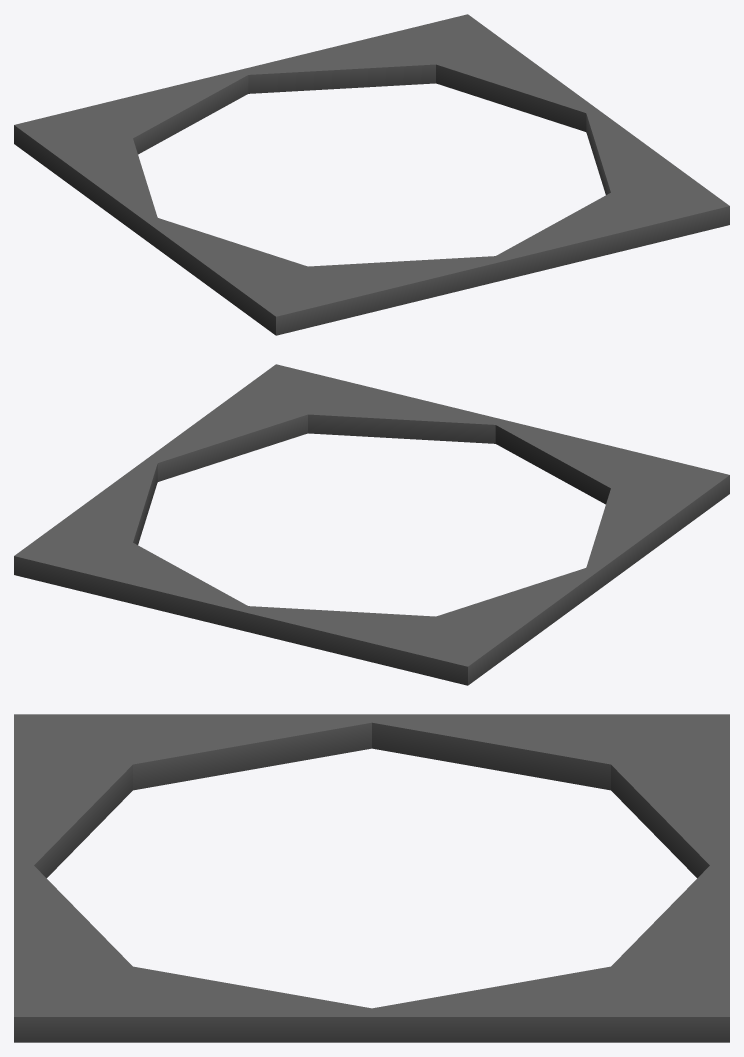
File: floorGoal.gltf
3 renders of one model, top to bottom at view 1: azimuth 30°, elevation 25°; view 2: azimuth 150°, elevation 25°; view 3: azimuth 270°, elevation 25°, orthographic. The views are drawn at different scales.
Parts seen in each view (by area): view 1: hole; view 2: hole; view 3: hole.
Boxes of the visible parts, x1,y1,x2,y2 form: hole: [14, 14, 729, 335]; hole: [14, 364, 729, 685]; hole: [14, 714, 729, 1042].
Bounding box in the file's own units: 1 × 0.0399 × 1.
1 material, 1 textured.
